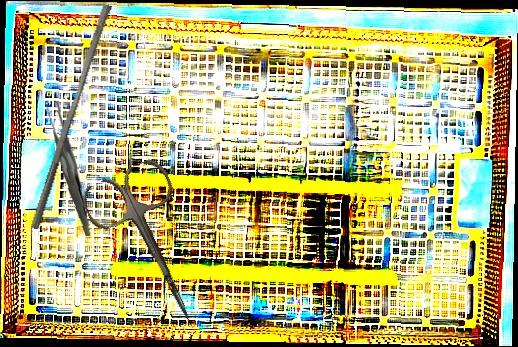Dressing Forceps: (38, 101, 98, 236)
Iris Scissors: (77, 154, 228, 341)
Pusher: (30, 1, 113, 233)
